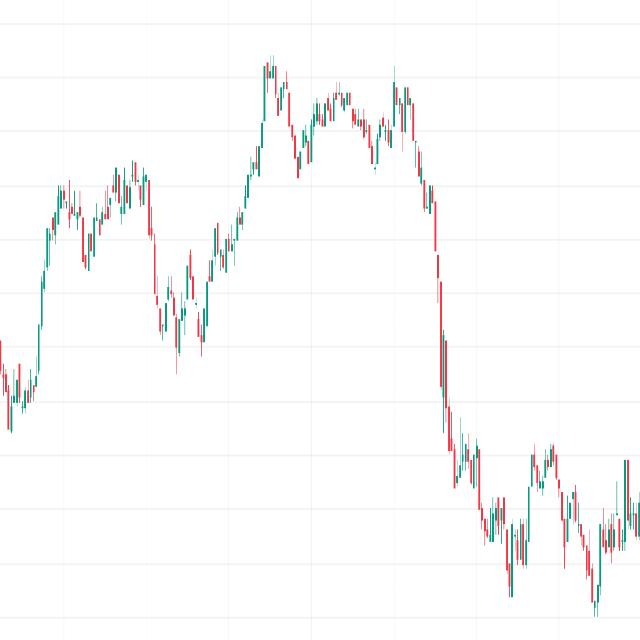Triple-Bottom: (146, 245, 216, 366)
